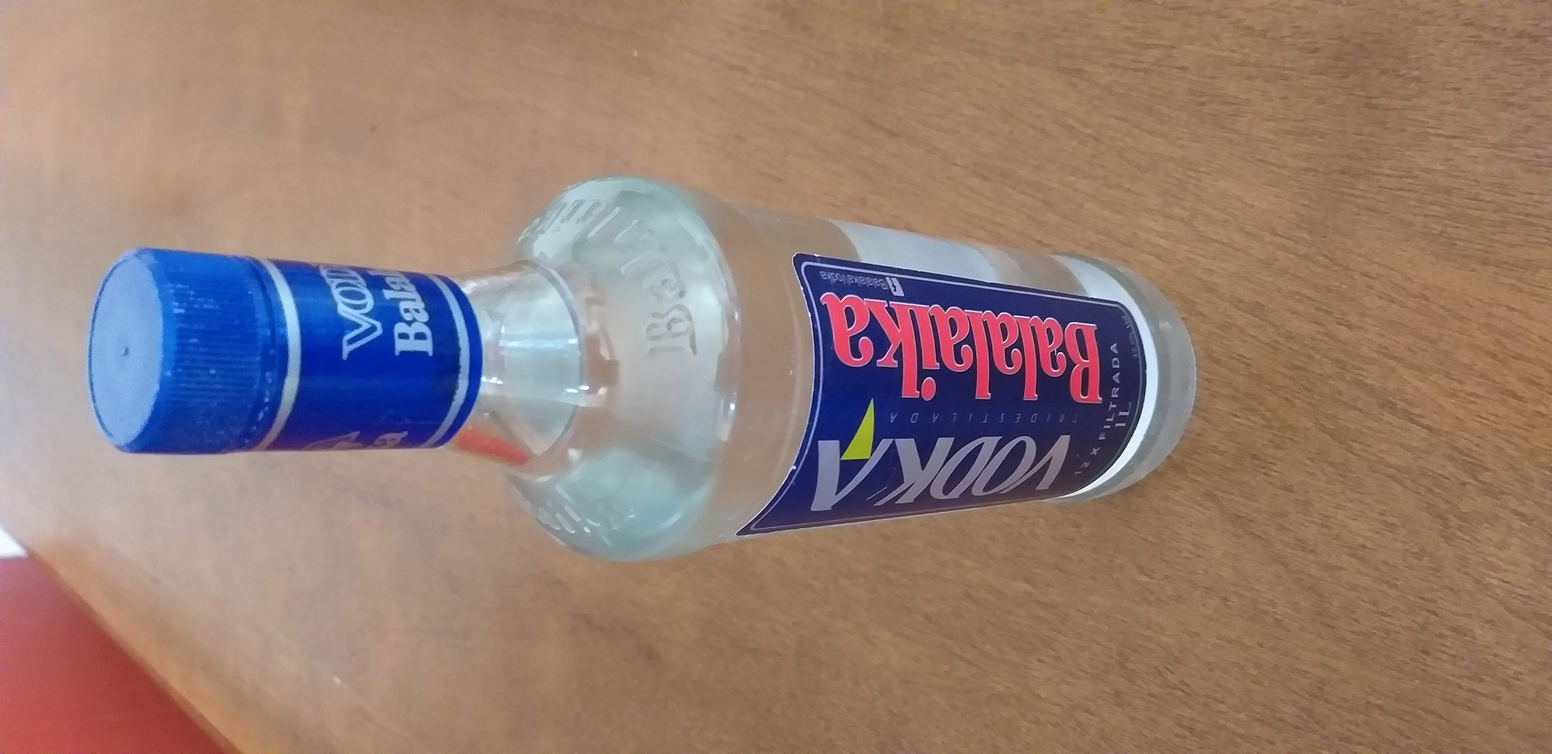bottle-glass: (82, 177, 1200, 558)
